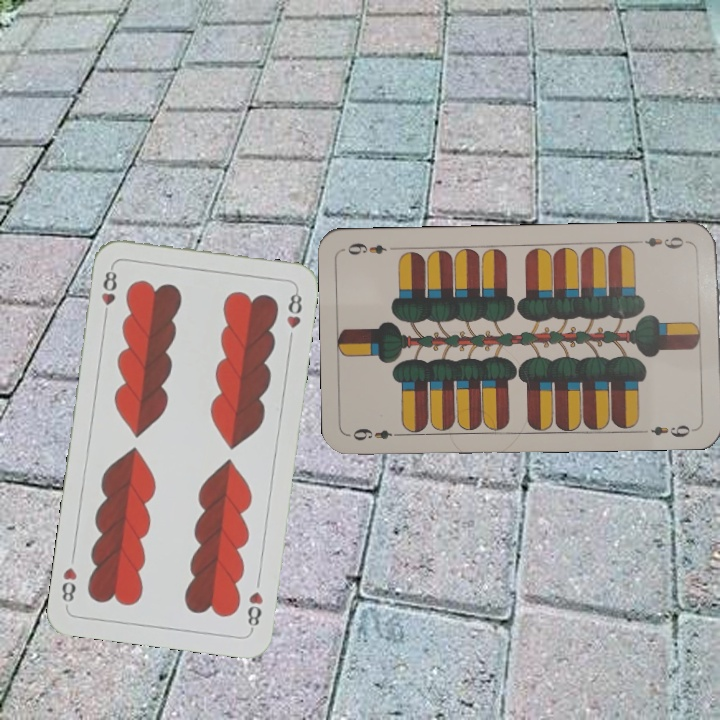E9: (632, 232, 692, 251), (348, 424, 405, 443)
H8: (97, 263, 120, 322), (243, 587, 266, 633)
